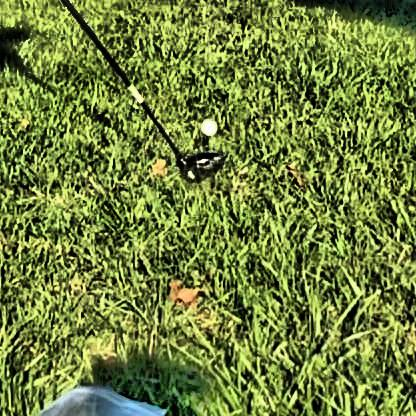golfball: (198, 115, 215, 134)
